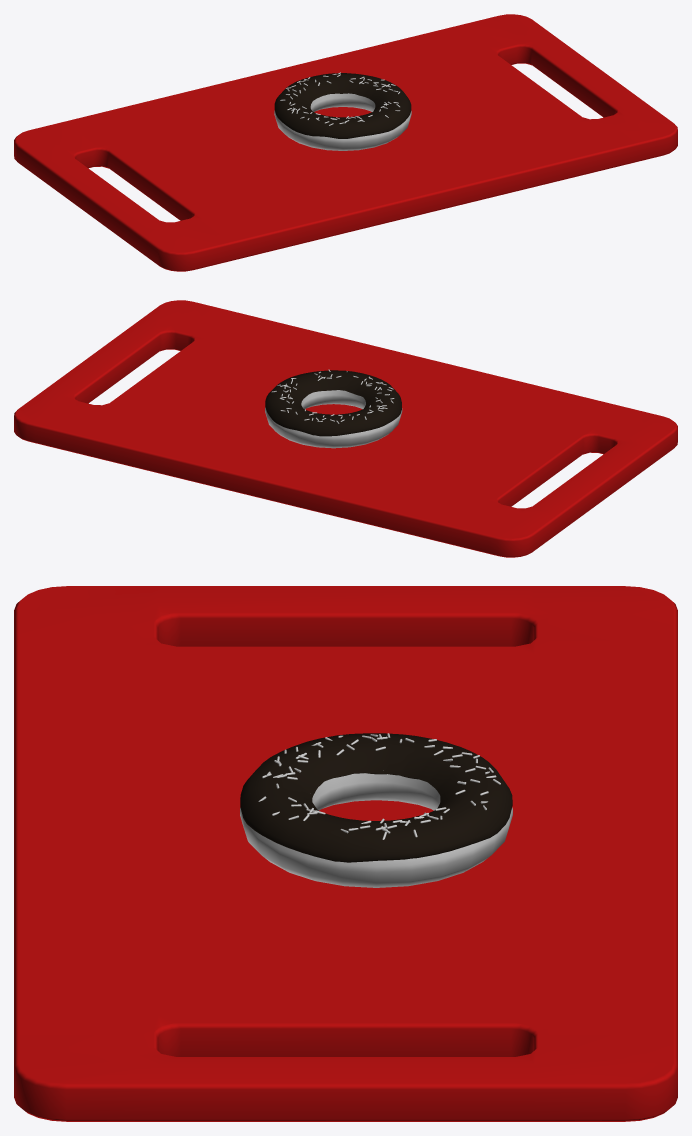
The model's file is Cutting board.FBX.
3 renders of one model, top to bottom at view 1: azimuth 30°, elevation 25°; view 2: azimuth 150°, elevation 25°; view 3: azimuth 270°, elevation 25°, orthographic. The views are drawn at different scales.
Parts seen in each view (by area): view 1: Cutting board, Donut.009; view 2: Cutting board, Donut.009; view 3: Cutting board, Donut.009.
Part boxes in pixels (box(x1,y1,x2,y2)): Cutting board: box(14, 14, 677, 271); Donut.009: box(274, 72, 411, 150); Cutting board: box(14, 300, 677, 557); Donut.009: box(265, 369, 402, 448); Cutting board: box(14, 586, 677, 1121); Donut.009: box(240, 733, 512, 887).
Size of the model in its own units: 70.91 by 6.35 by 39.7.
